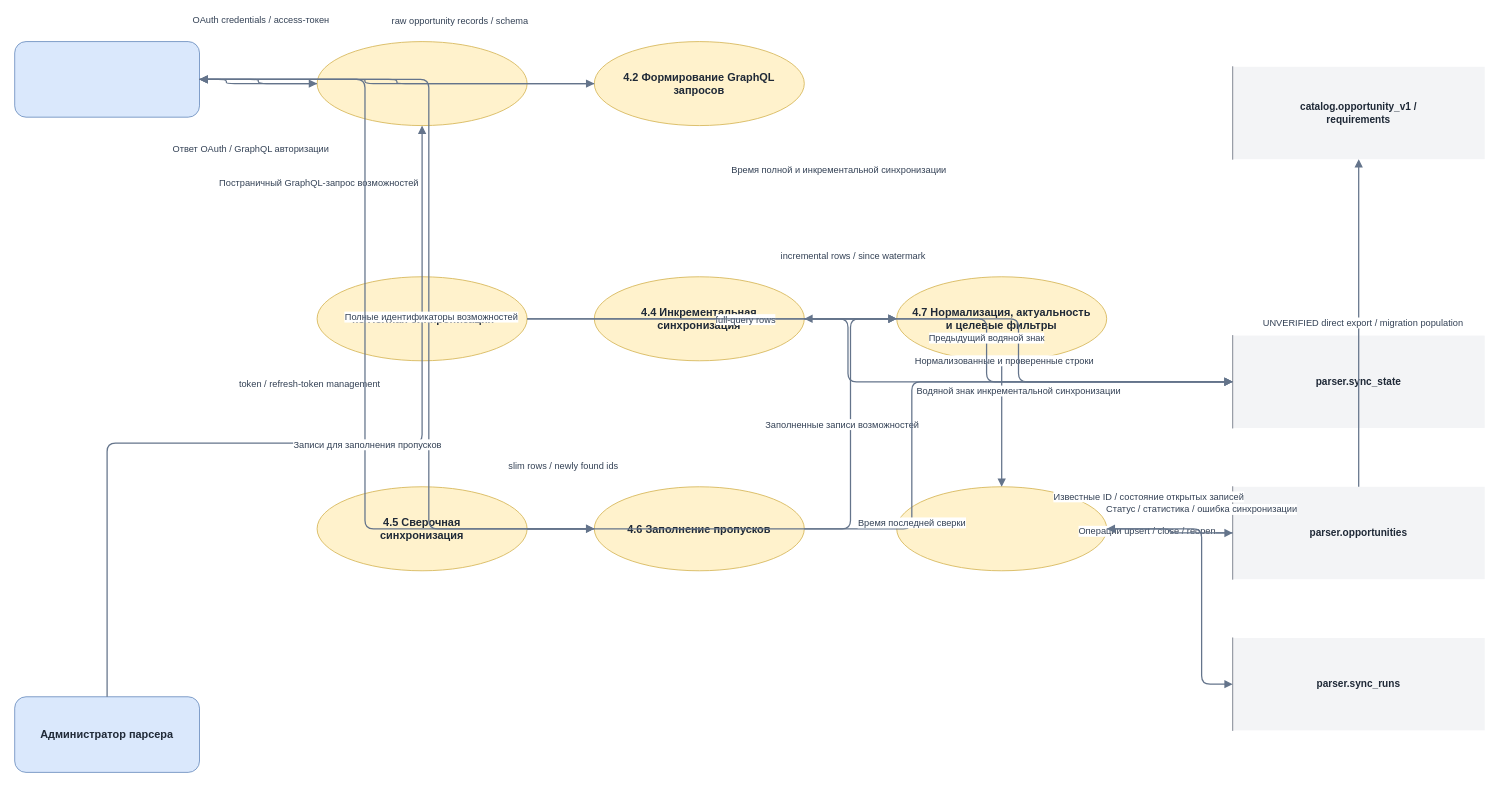
Some shapes in this 1499 by 787 pixel diagram are drawn without their labels. Here are the shapes that lost their labels. From the top down, the box of each, then its label:
(14, 41, 200, 117): AIESEC GraphQL API
(316, 41, 527, 126): 4.1 OAuth и обновление токена
(896, 486, 1107, 571): 4.8 Upsert и закрытие не найденных записей
